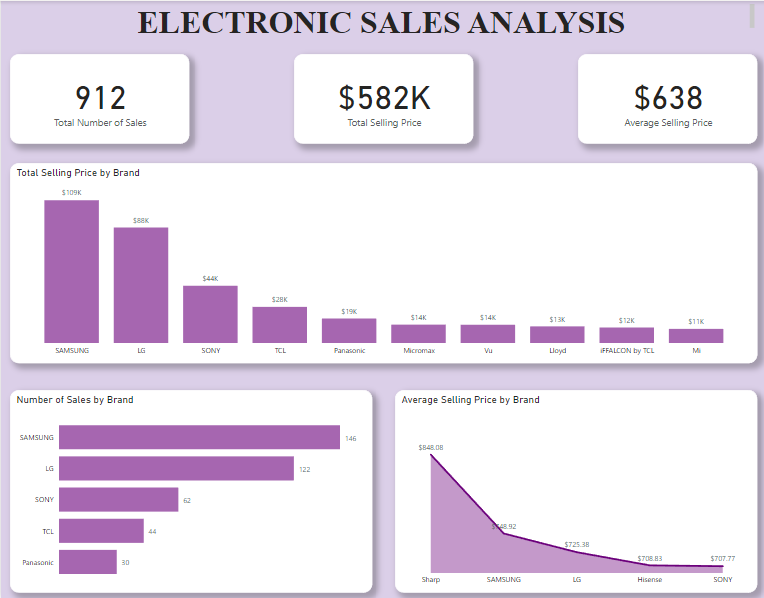

The page's visual inventory and layout, read from the dashboard file:
{"tool":"powerbi","page":{"name":"Page 1","canvas":[1280,1000],"ordinal":0},"visuals":[{"type":"barChart","title":"Number of Sales by Brand","fields":{"Category":["electronics_store - TV_Final.Brand"],"Y":["electronics_store - TV_Final.Sales Count"]},"box":[14.8,650,606,339],"z":0},{"type":"columnChart","title":"Total Selling Price by Brand","fields":{"Y":["Sum(electronics_store - TV_Final.Selling Price)"],"Category":["electronics_store - TV_Final.Brand"]},"box":[14.8,270.4,1250,335.2],"z":1000},{"type":"textbox","box":[14.6,0,1250,60.2],"z":2000},{"type":"card","fields":{"Values":["electronics_store - TV_Final.Sales Count"]},"box":[14.8,88.9,300,150],"z":3000},{"type":"card","fields":{"Values":["Sum(electronics_store - TV_Final.Selling Price)"]},"box":[490.7,88.9,300,150],"z":4000},{"type":"card","fields":{"Values":["Avg(electronics_store - TV_Final.Selling Price)"]},"box":[964.8,88.9,300,150],"z":5000},{"type":"areaChart","title":"Average Selling Price by Brand","fields":{"Category":["electronics_store - TV_Final.Brand"],"Y":["Avg(electronics_store - TV_Final.Selling Price)"]},"box":[659.3,650,605.6,338.9],"z":6000}]}

Visuals, with their boxes in screenshot pixels (x1, y1, x2, y2), scaled from the page's 1280x1000 canvas onto the 764x598 screenshot:
"Number of Sales by Brand" barChart: l=9, t=389, r=371, b=591
"Total Selling Price by Brand" columnChart: l=9, t=162, r=755, b=362
textbox: l=9, t=0, r=755, b=36
card - electronics_store - TV_Final.Sales Count: l=9, t=53, r=188, b=143
card - Sum(electronics_store - TV_Final.Selling Price): l=293, t=53, r=472, b=143
card - Avg(electronics_store - TV_Final.Selling Price): l=576, t=53, r=755, b=143
"Average Selling Price by Brand" areaChart: l=394, t=389, r=755, b=591
